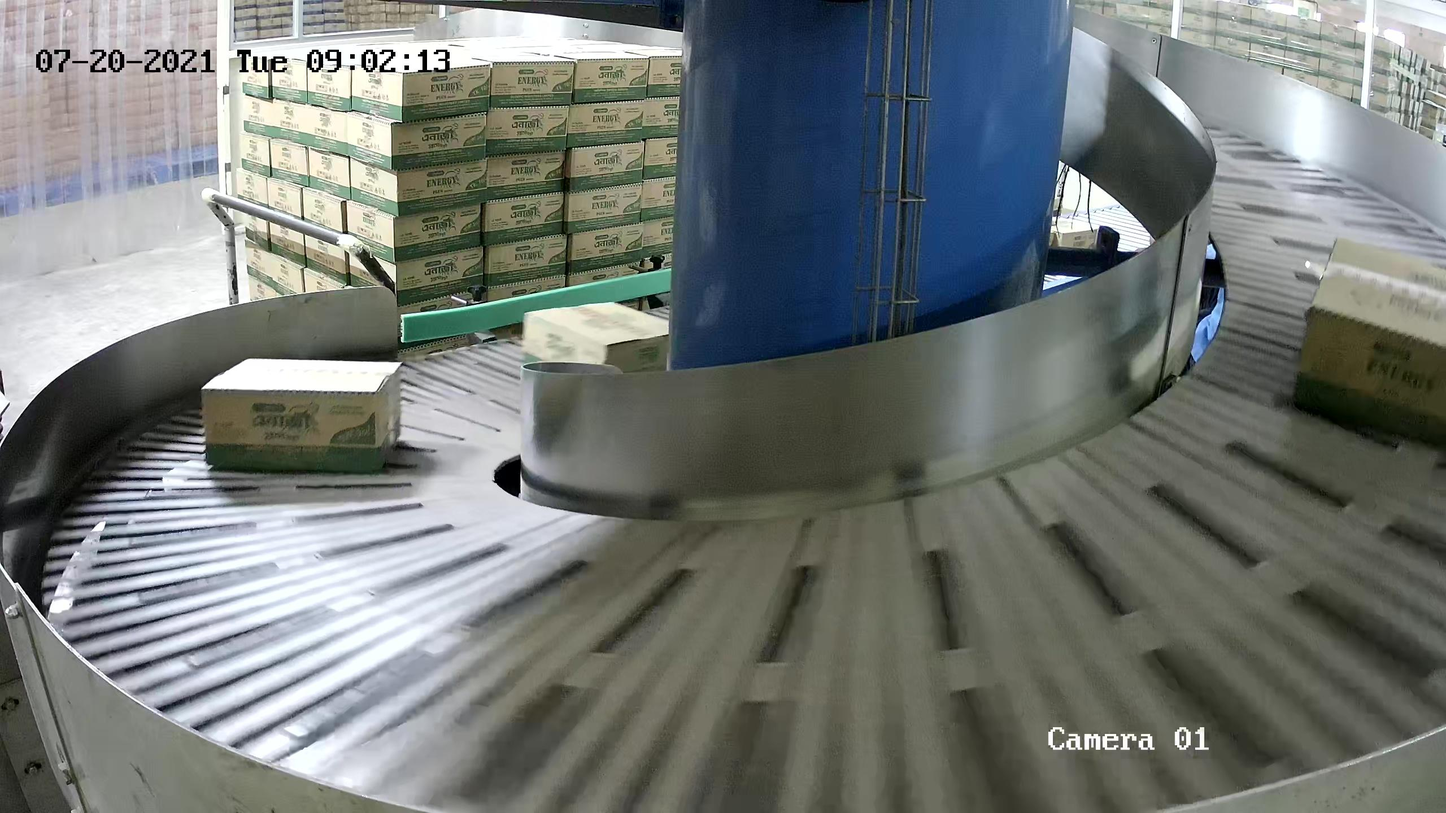Box: (1293, 235, 1446, 450), (201, 358, 403, 474), (520, 300, 670, 374)
